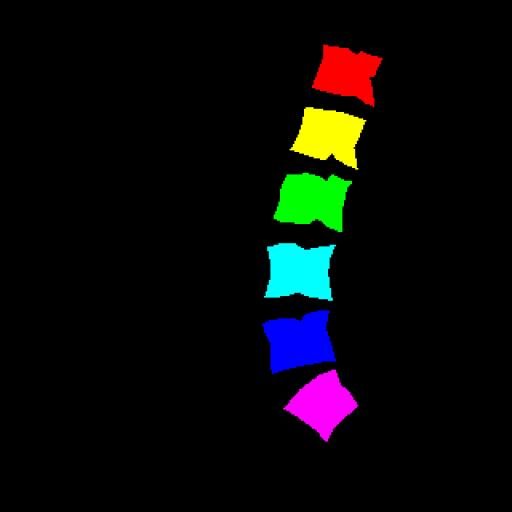L1: (312, 45, 382, 106)
L2: (290, 107, 366, 168)
L3: (274, 173, 352, 232)
L4: (266, 243, 334, 300)
L5: (263, 311, 335, 372)
S1: (284, 370, 358, 442)
